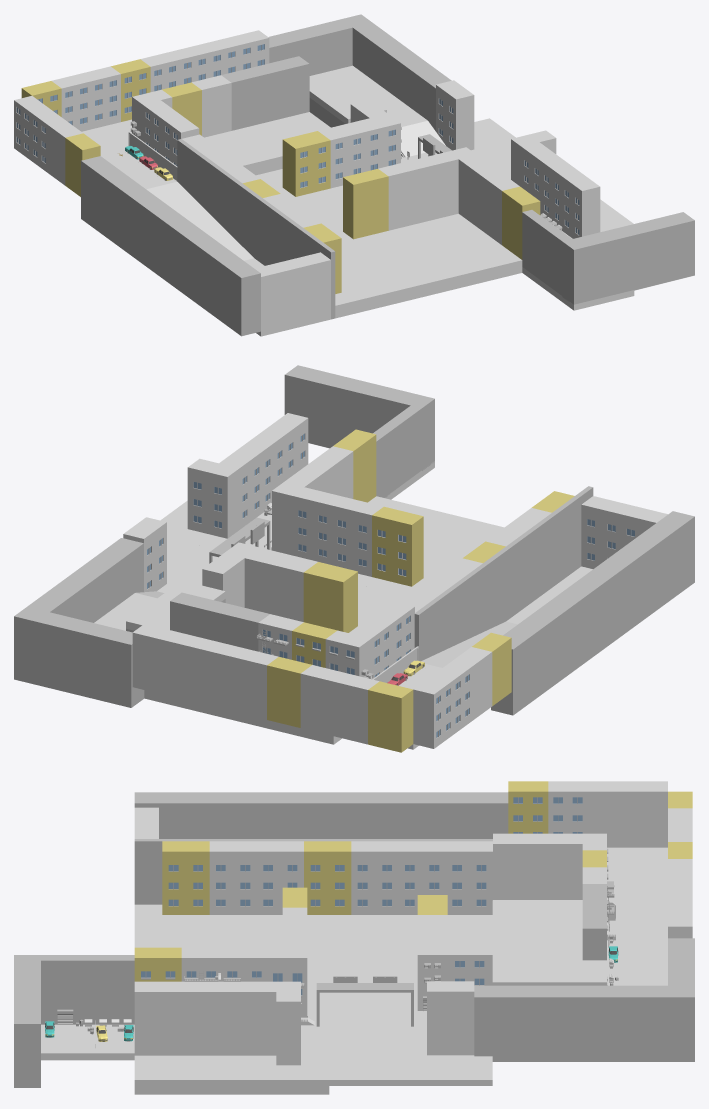
The model's file is Level.fbx.
3 views of the same model, one above another, from view 1: azimuth 30°, elevation 25°; view 2: azimuth 150°, elevation 25°; view 3: azimuth 270°, elevation 25° (orthographic). The views are drawn at different scales.
Visible parts, largest first — view 1: Apartment_Row_5, Wall_9, Ground_1, Wall_2, Apartment_Row_2, Wall_3, Apartment_Row_1, Apartment_Row_3, Slope, Wall_6, Wall_5, Apartment_Row_6 (+21 smaller); view 2: Apartment_Row_5, Wall_9, Wall_3, Apartment_Row_2, Apartment_Row_1, Wall_2, Apartment_Row_3, Wall_7, Wall_6, Ground_1, Wall_5, Apartment_Row_6 (+17 smaller); view 3: Apartment_Row_4, Wall_6, Wall_9, Apartment_Row_2, Apartment_Row_5, Slope, Ground_1, Main_Road_2, Main_Road_1, Wall_1, Ground_2, Wall_2 (+18 smaller).
Part boxes in pixels (x1=…): Apartment_Row_5: x1=14, y1=30, x2=269, y2=196; Wall_9: x1=81, y1=156, x2=260, y2=336; Ground_1: x1=326, y1=199, x2=633, y2=300; Wall_2: x1=562, y1=212, x2=694, y2=304; Apartment_Row_2: x1=436, y1=80, x2=600, y2=238; Wall_3: x1=177, y1=139, x2=335, y2=319; Apartment_Row_1: x1=343, y1=151, x2=458, y2=239; Apartment_Row_3: x1=282, y1=114, x2=400, y2=196; Slope: x1=102, y1=65, x2=445, y2=180; Wall_6: x1=341, y1=14, x2=451, y2=131; Wall_5: x1=221, y1=56, x2=309, y2=130; Apartment_Row_6: x1=254, y1=252, x2=330, y2=331; Apartment_Row_5: x1=132, y1=624, x2=511, y2=752; Wall_9: x1=491, y1=511, x2=694, y2=715; Wall_3: x1=414, y1=486, x2=593, y2=661; Apartment_Row_2: x1=123, y1=413, x2=308, y2=592; Apartment_Row_1: x1=292, y1=487, x2=423, y2=586; Wall_2: x1=284, y1=365, x2=434, y2=470; Apartment_Row_3: x1=224, y1=542, x2=357, y2=632; Wall_7: x1=36, y1=612, x2=144, y2=707; Wall_6: x1=14, y1=538, x2=143, y2=684; Ground_1: x1=160, y1=496, x2=504, y2=596; Wall_5: x1=170, y1=592, x2=269, y2=651; Apartment_Row_6: x1=581, y1=496, x2=667, y2=568; Apartment_Row_4: x1=162, y1=841, x2=492, y2=914; Wall_6: x1=474, y1=985, x2=694, y2=1061; Wall_9: x1=134, y1=792, x2=508, y2=838; Apartment_Row_2: x1=134, y1=981, x2=474, y2=1065; Apartment_Row_5: x1=508, y1=781, x2=692, y2=938; Slope: x1=492, y1=887, x2=667, y2=985; Ground_1: x1=134, y1=945, x2=329, y2=1094; Main_Road_2: x1=329, y1=945, x2=402, y2=1085; Main_Road_1: x1=134, y1=921, x2=492, y2=945; Wall_1: x1=41, y1=955, x2=134, y2=1024; Ground_2: x1=402, y1=945, x2=492, y2=1085; Wall_2: x1=14, y1=955, x2=40, y2=1087.
Bounding box in the file's own units: 66425 × 11600 × 83600.
